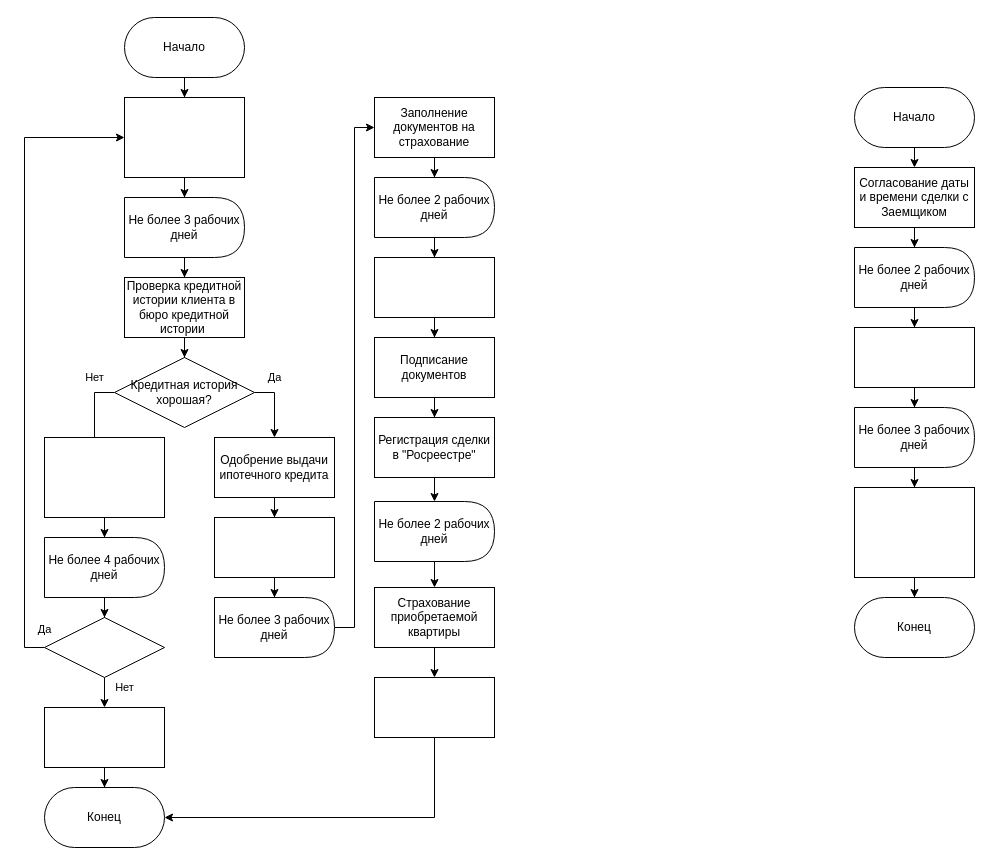
This 992x865 diagram has some shape labels left out. The shapes that lost their labels are listed below. From the top down, each one's box as (x1, y1, x2, y2) in pixels, then its label:
(124, 96, 244, 178): Подача заявки с пакетом документов на оформление ипотечного кредита
(374, 256, 494, 318): Получение заключения страховой компании
(854, 326, 974, 388): Открытие расчетного счета на Заемщика и Продавца
(44, 436, 164, 518): Предложение клиенту проверить кредитную историю на наличине несоответствий
(214, 516, 334, 578): Заказ отчета об оценке стоимости квартиры
(854, 486, 974, 578): Подписание документов по кредиту и договор купли-продажи квартиры в Фонде
(44, 616, 164, 678): Несоответствия устранены?
(374, 676, 494, 738): Выдача кредита Заемщику
(44, 706, 164, 768): Отказ клиенту в оформлении ипотечного кредита
